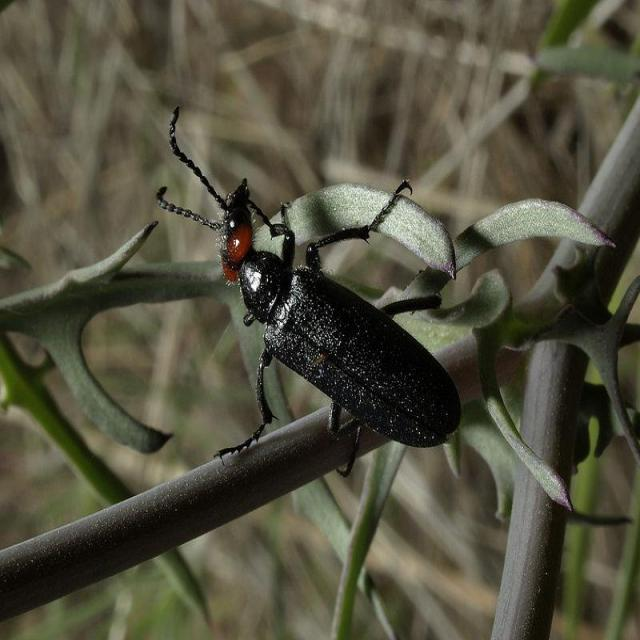BlisterBeetle-Adult-: (153, 104, 465, 467)
